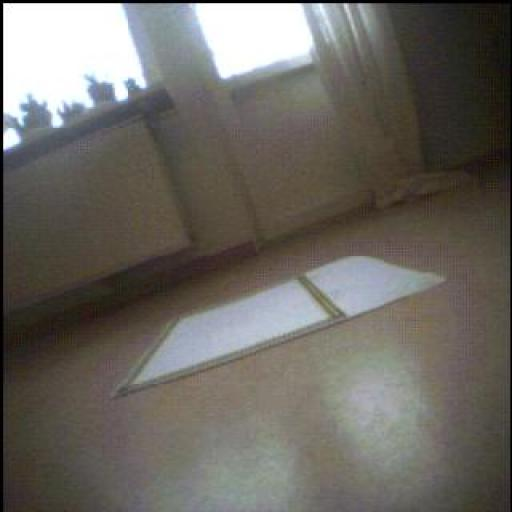Pad: (118, 257, 444, 396), (307, 257, 444, 318)
